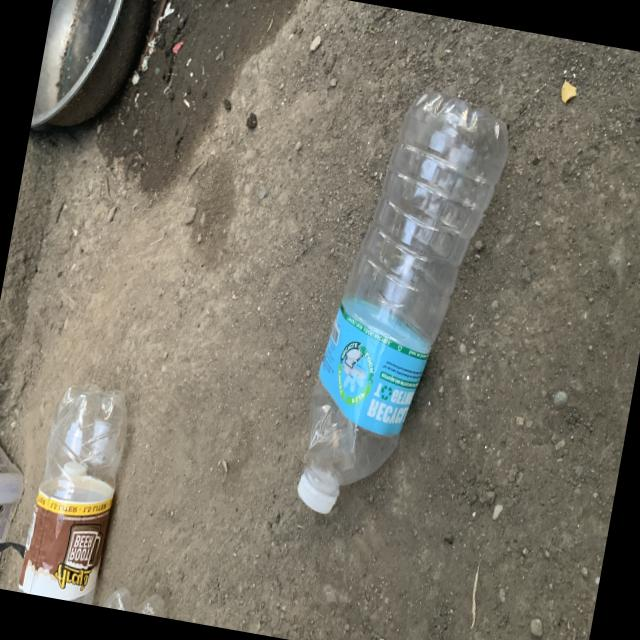Bottle: (297, 91, 506, 513)
